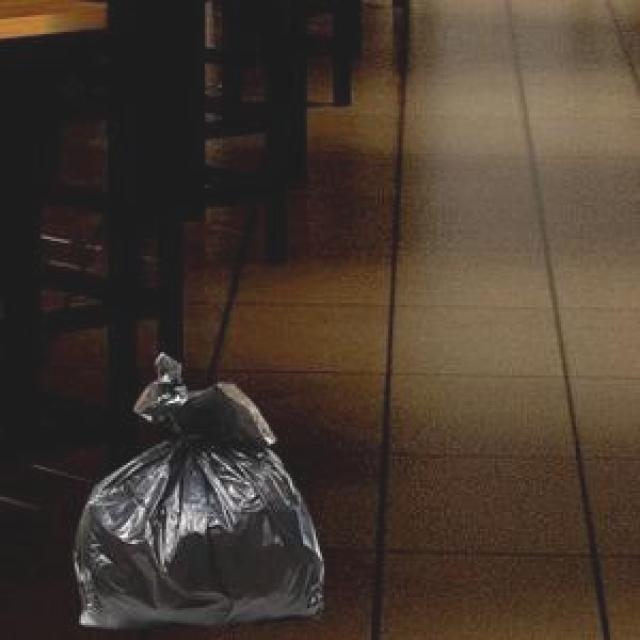Trashbag: (71, 350, 332, 639)
